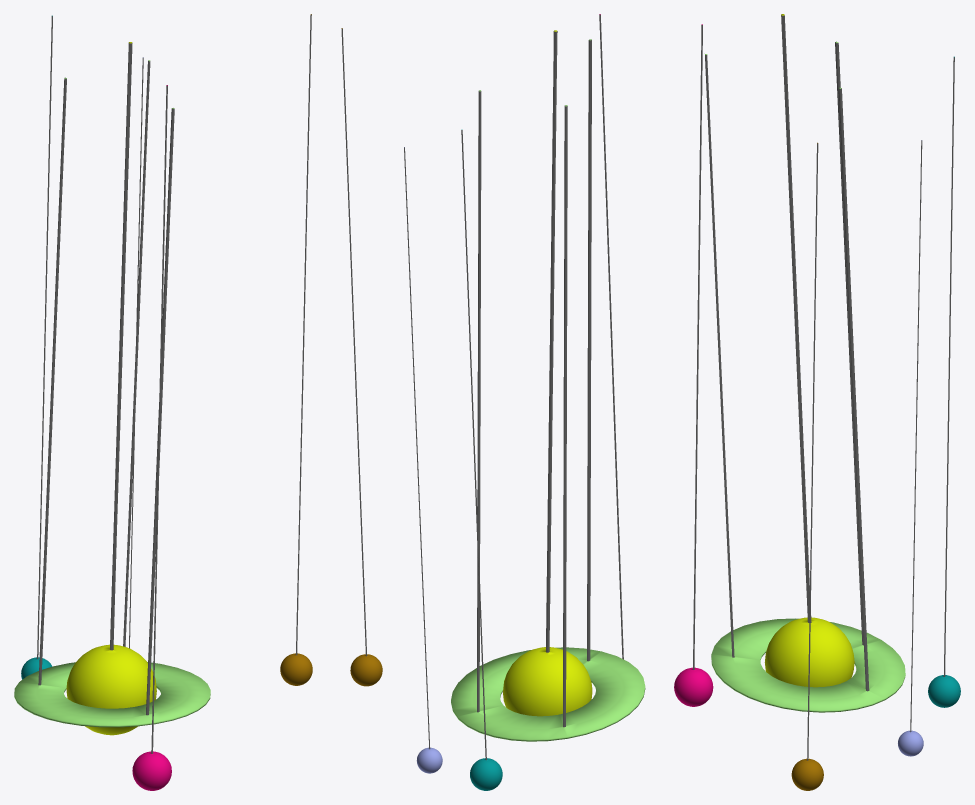
File: Planet4.fbx
3 views of the same model, side by side, from view 1: azimuth 30°, elevation 25°; view 2: azimuth 150°, elevation 25°; view 3: azimuth 270°, elevation 25° (orthographic).
Visible parts, largest first — view 1: Cylinder.022; view 2: Cylinder.022; view 3: Cylinder.022.
Boxes of the visible parts, x1,y1,x2,y2 form: Cylinder.022: (14,14,312,790); Cylinder.022: (341,14,645,790); Cylinder.022: (674,14,960,790).
Bounding box in the file's own units: 42382 × 100362 × 36756.
